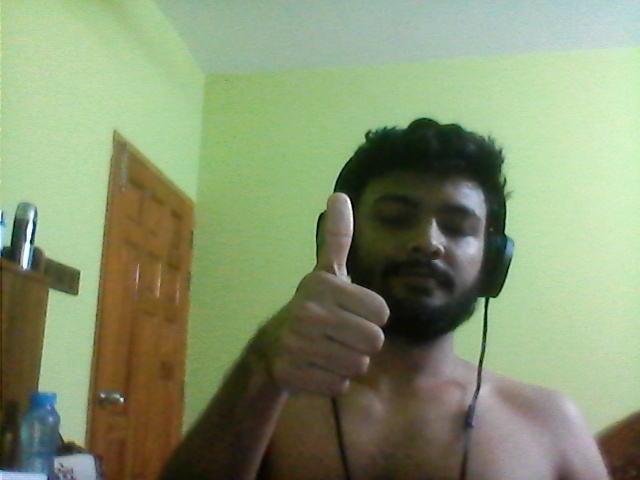Yes: (269, 187, 394, 393)
